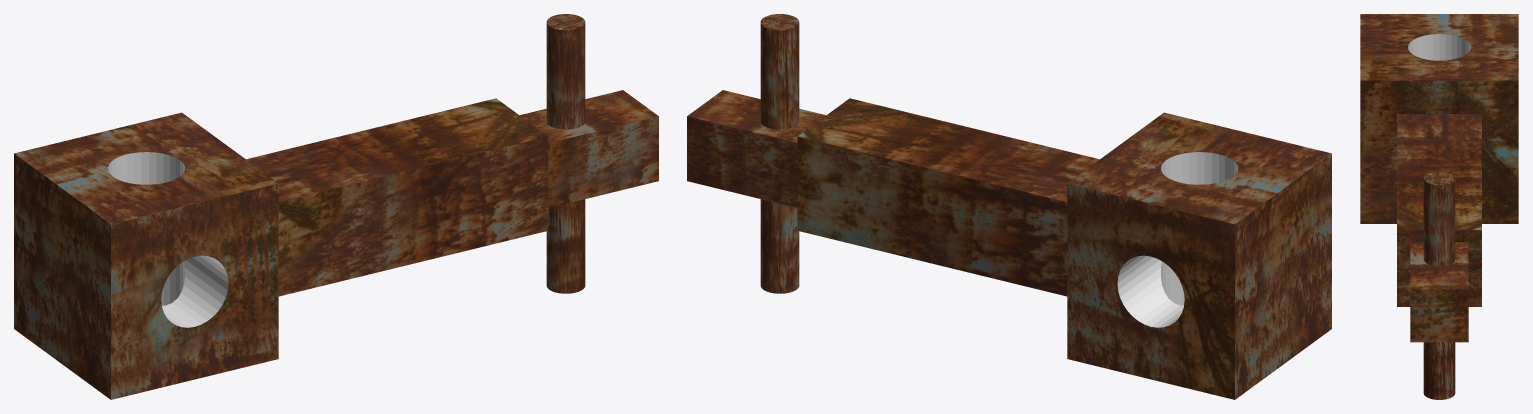
File: casteIronPart.glb
3 renders of one model, left to right at view 1: azimuth 30°, elevation 25°; view 2: azimuth 150°, elevation 25°; view 3: azimuth 270°, elevation 25°, orthographic. The views are drawn at different scales.
Parts seen in each view (by area): view 1: Cube; view 2: Cube; view 3: Cube.
Part boxes in pixels (box(x1,y1,x2,y2)): Cube: box(14, 14, 658, 399); Cube: box(687, 14, 1331, 399); Cube: box(1360, 14, 1518, 399).
Size of the model in its own units: 6.89 by 3 by 2.
Materials: 1 (1 with a texture image).
